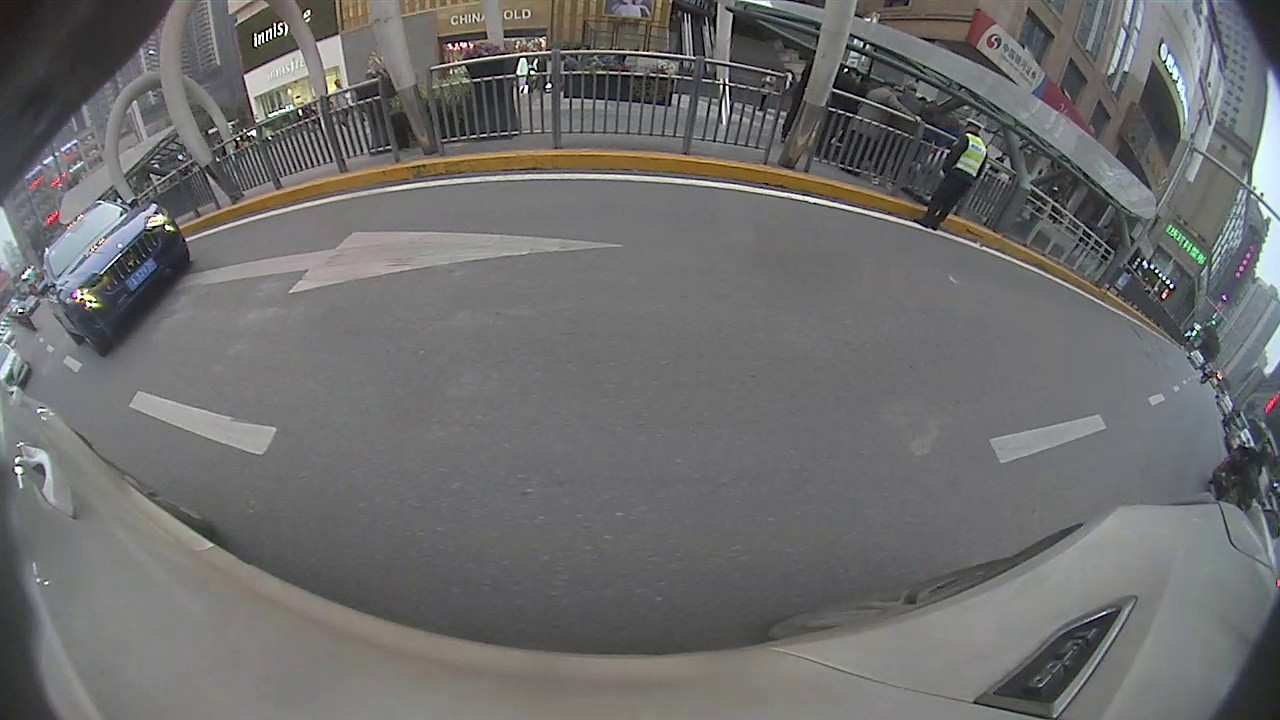car: (43, 199, 191, 356)
person: (913, 115, 990, 231)
